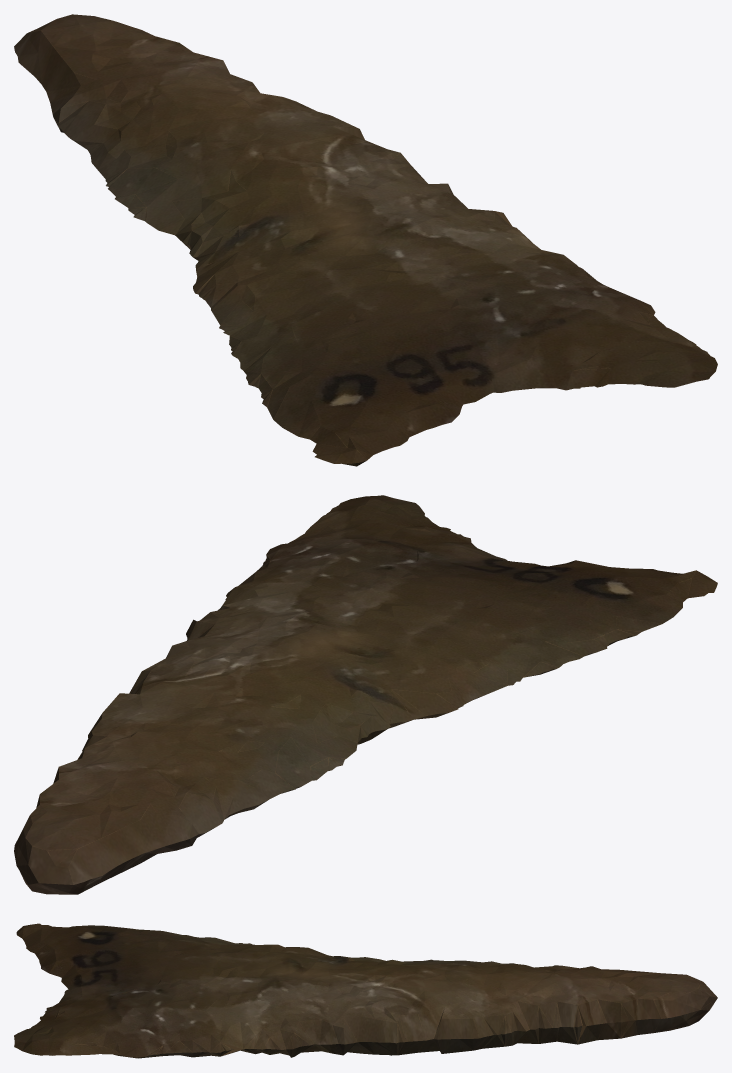
Rendered from PuntaFlecha2.gltf.
3 views of the same model, one above another, from view 1: azimuth 30°, elevation 25°; view 2: azimuth 150°, elevation 25°; view 3: azimuth 270°, elevation 25° (orthographic). The views are drawn at different scales.
Parts seen in each view (by area): view 1: TexturedMesh; view 2: TexturedMesh; view 3: TexturedMesh.
Part boxes in pixels (x1=…): TexturedMesh: x1=14, y1=14, x2=717, y2=466; TexturedMesh: x1=14, y1=495, x2=717, y2=894; TexturedMesh: x1=14, y1=923, x2=717, y2=1058.
Bounding box in the file's own units: 0.4307 × 0.0836 × 0.9549.
Materials: 1 (1 with a texture image).
